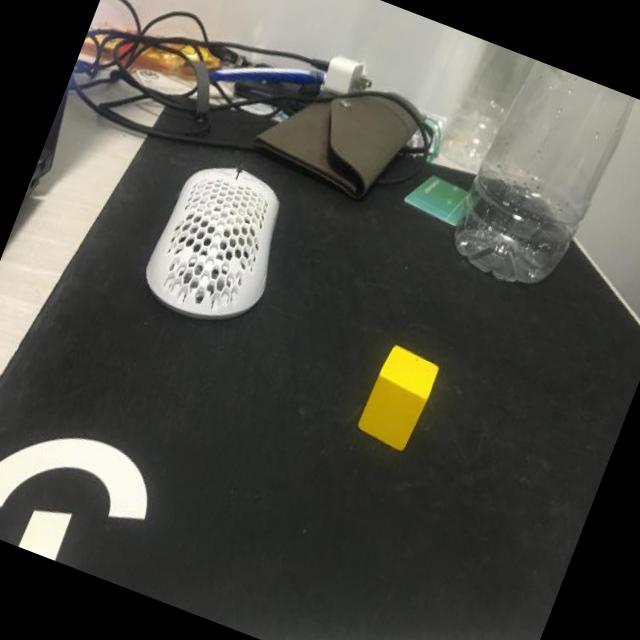yellow: (353, 342, 442, 454)
